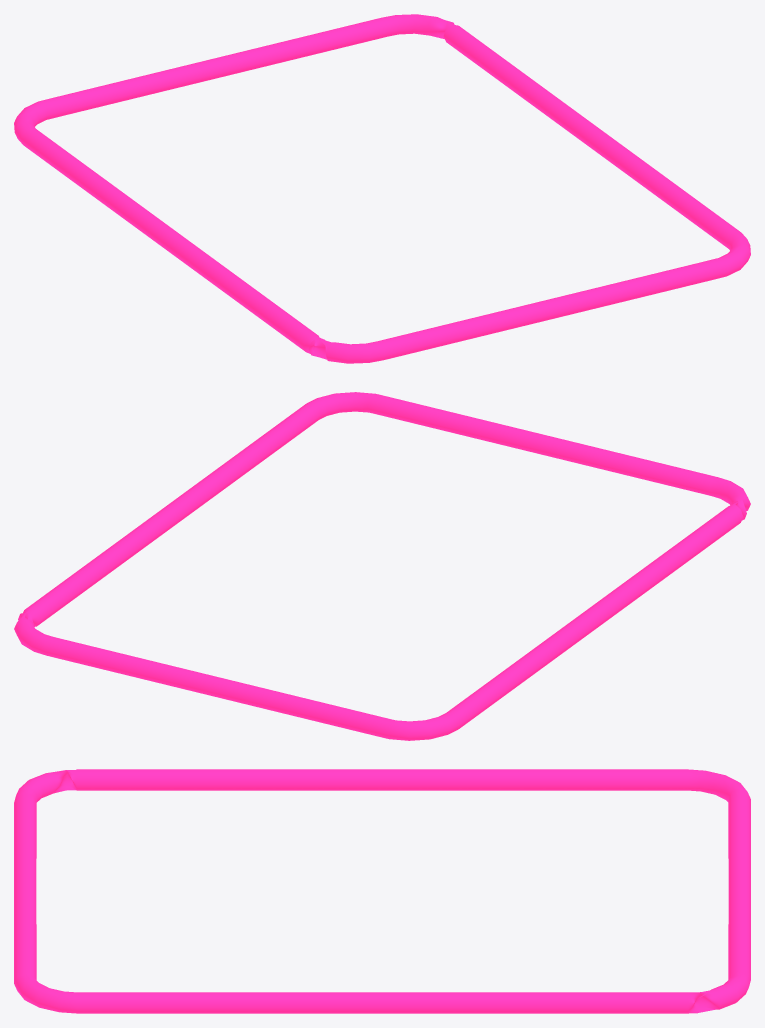
Rendered from bonus_frame_pink.glb.
The picture shows the model from 3 angles, top to bottom: view 1: azimuth 30°, elevation 25°; view 2: azimuth 150°, elevation 25°; view 3: azimuth 270°, elevation 25°; orthographic projection. The views are drawn at different scales.
Visible parts, largest first — view 1: Frame; view 2: Frame; view 3: Frame.
Boxes of the visible parts, box(x1,y1,x2,y2) form: Frame: box(14, 14, 750, 363); Frame: box(14, 392, 750, 740); Frame: box(14, 769, 750, 1013).
Bounding box in the file's own units: 0.1272 × 0.0052 × 0.1703.
